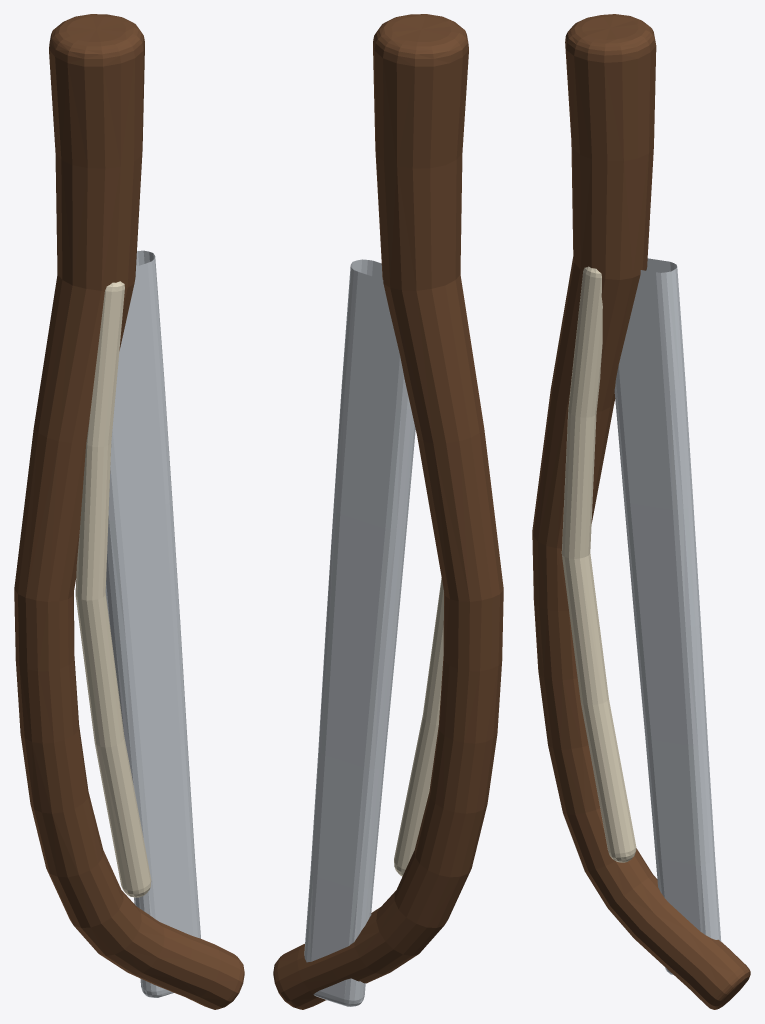
The model's file is PropSaw.obj.
3 views of the same model, side by side, from view 1: azimuth 30°, elevation 25°; view 2: azimuth 150°, elevation 25°; view 3: azimuth 330°, elevation 25° (orthographic). The views are drawn at different scales.
Bounding box in the file's own units: 0.422 × 1.83 × 0.16.
